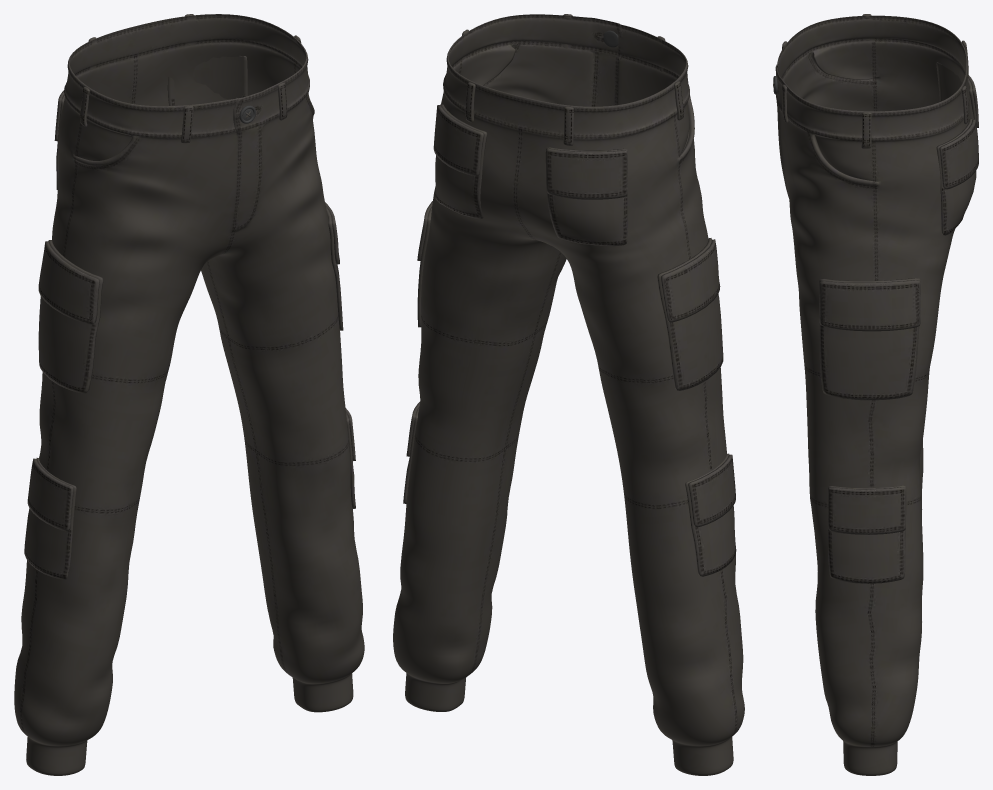
Rendered from Malepants2-1.glb.
3 renders of one model, left to right at view 1: azimuth 30°, elevation 25°; view 2: azimuth 150°, elevation 25°; view 3: azimuth 270°, elevation 25°, orthographic. The views are drawn at different scales.
Parts seen in each view (by area): view 1: Cube_Material_0; view 2: Cube_Material_0; view 3: Cube_Material_0.
Part boxes in pixels (left/top/right/bottom): Cube_Material_0: left=14, top=14, right=364, bottom=775; Cube_Material_0: left=393, top=14, right=744, bottom=775; Cube_Material_0: left=773, top=14, right=978, bottom=775.
Size of the model in its own units: 0.1871 by 0.3594 by 0.1044.
Materials: 1 (1 with a texture image).
